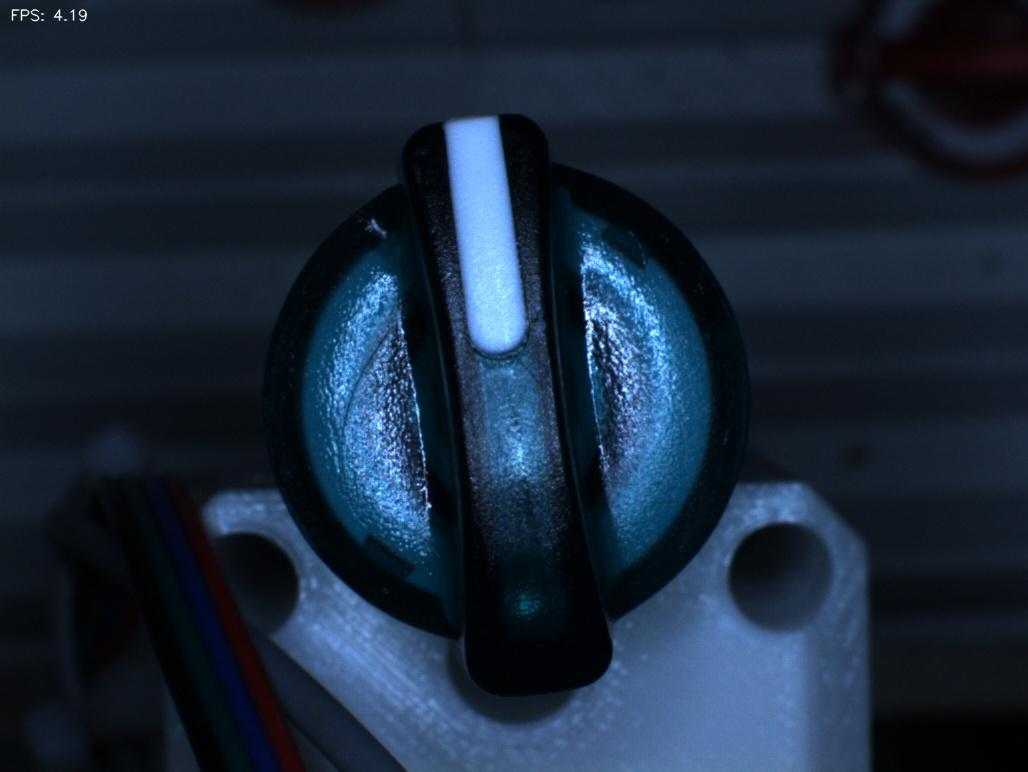Choc: (326, 175, 416, 269)
